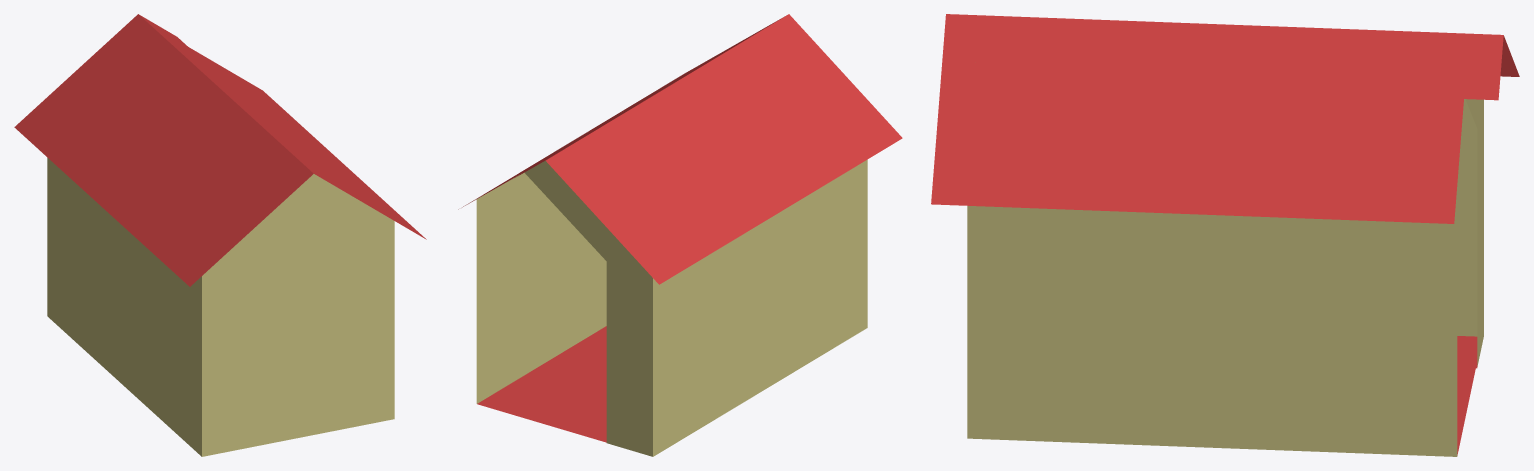
The picture shows the model from 3 angles, left to right: view 1: azimuth 30°, elevation 25°; view 2: azimuth 150°, elevation 25°; view 3: azimuth 270°, elevation 25°; orthographic projection. The views are drawn at different scales.
Size of the model in its own units: 8.94 by 13.26 by 9.1.
